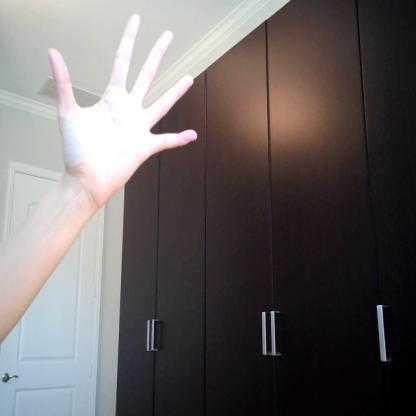five: (49, 10, 201, 211)
